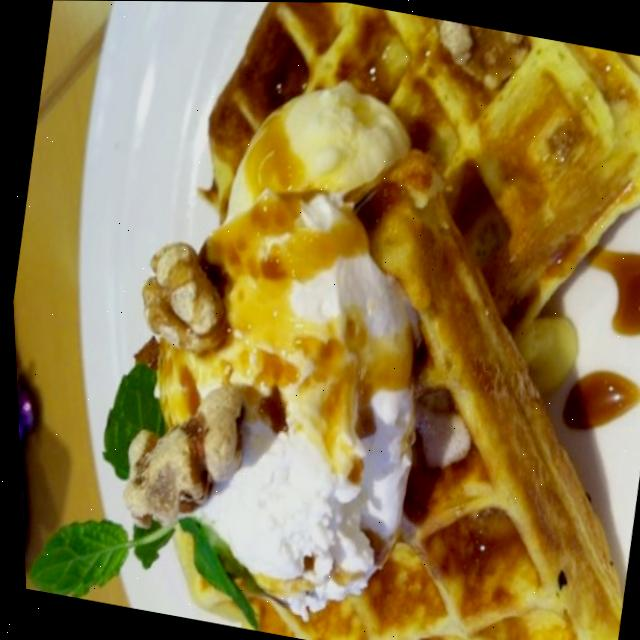炸货点心: (55, 0, 640, 640)
蛋糕甜品: (55, 0, 640, 640)
